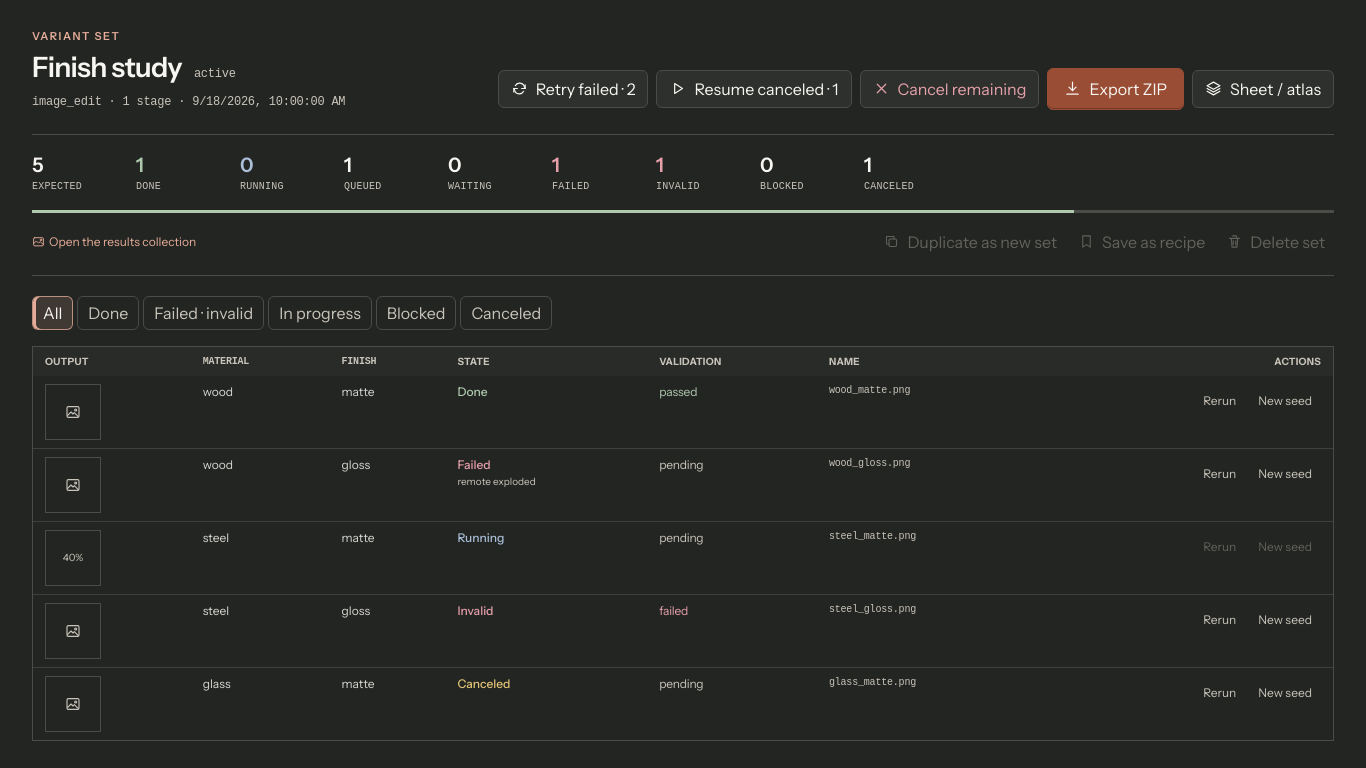
Variant Set detail › shows every combination with its values, live state and validation
Expected: the heading "Finish study" is shown, [32,48,182,86]
Expected: the number of rows with test id "variant-row" is 5, [33,376,1333,449]; [33,449,1333,522]; [33,522,1333,595]; [33,595,1333,668]; [33,668,1333,740]
Click the button "failed". click: x=674, y=611
box: [659,603,688,619]
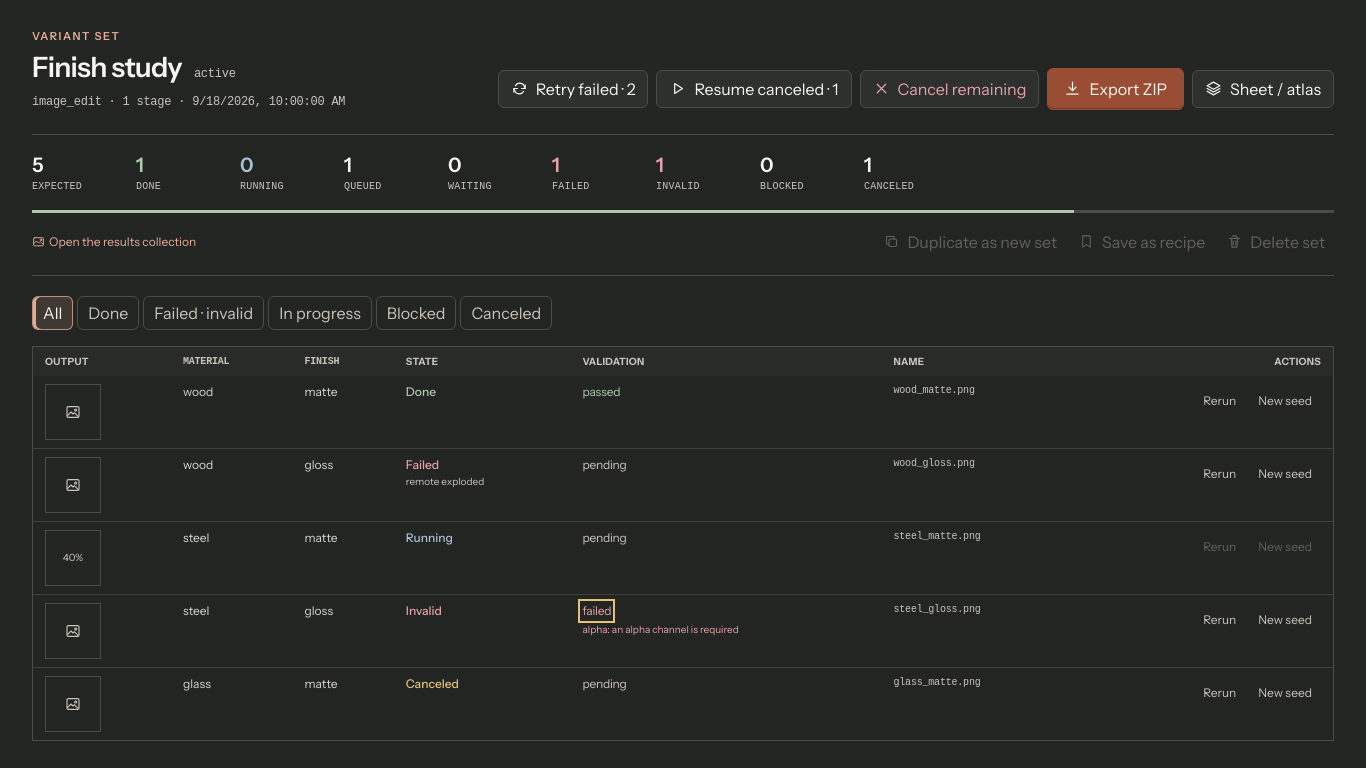
Expected: the list item "alpha: an alpha channel is required" is shown, [582,623,739,636]
